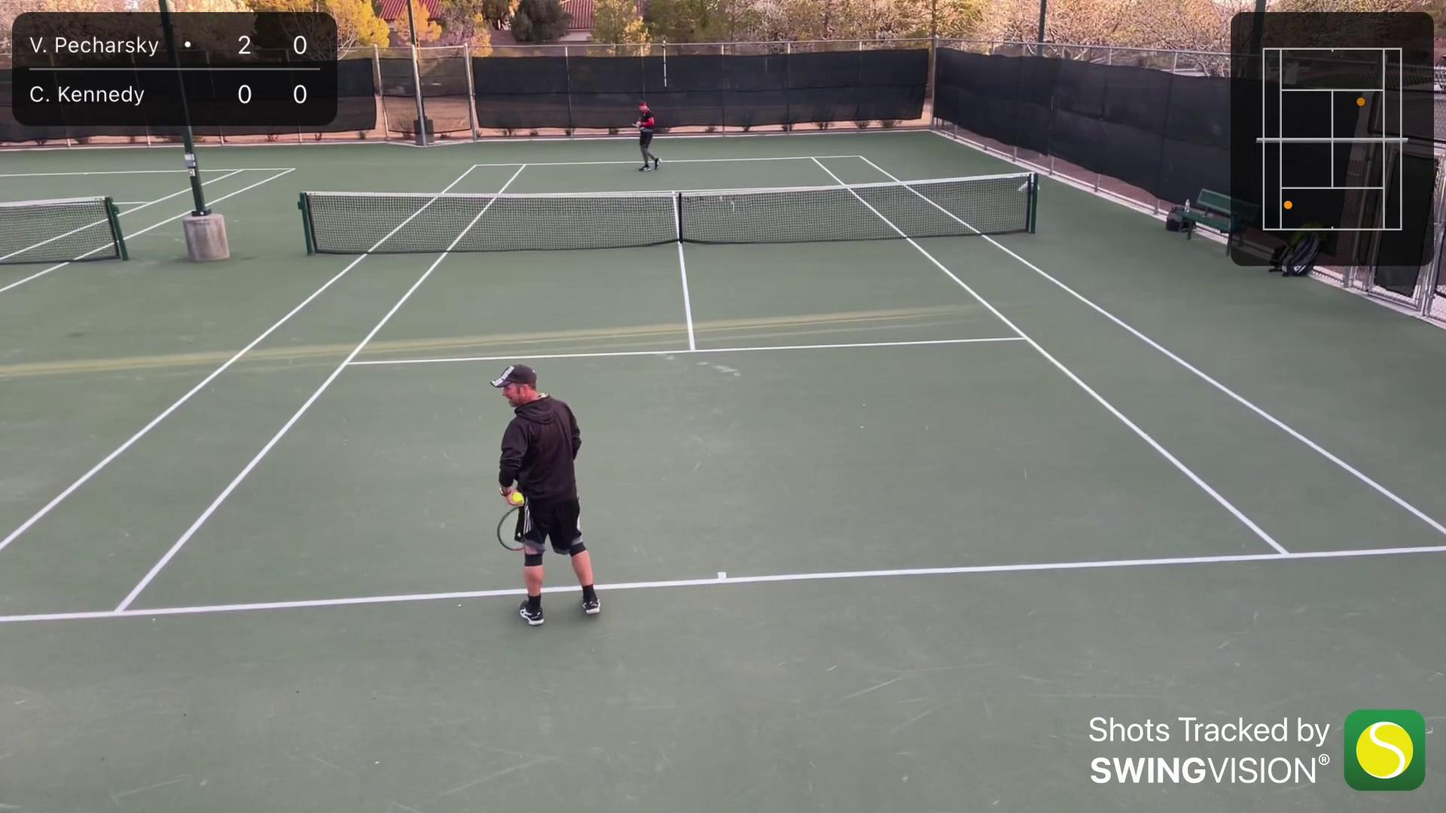ball: (509, 491, 530, 507), (225, 361, 232, 370)
